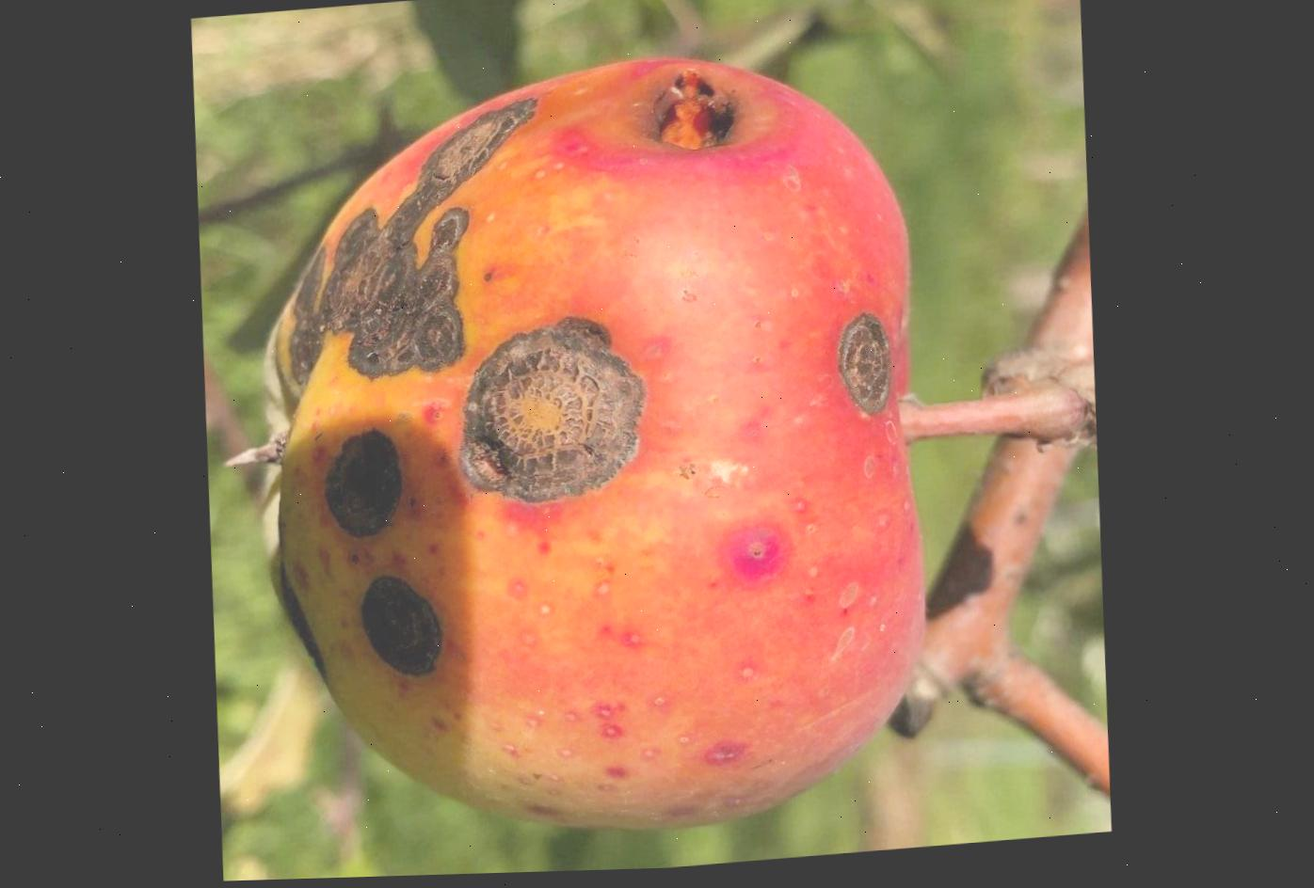SCAB: (222, 0, 988, 881)
